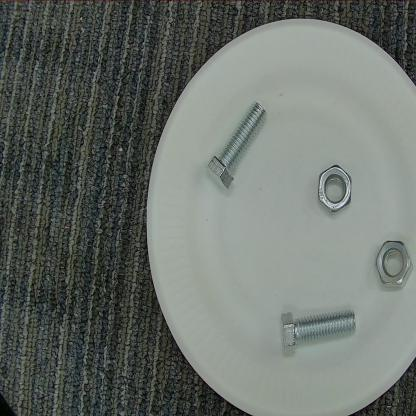FOD: (200, 99, 273, 191), (271, 302, 362, 360), (373, 236, 415, 295), (313, 160, 356, 216)
